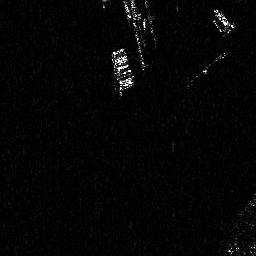ship: (213, 8, 236, 29)
